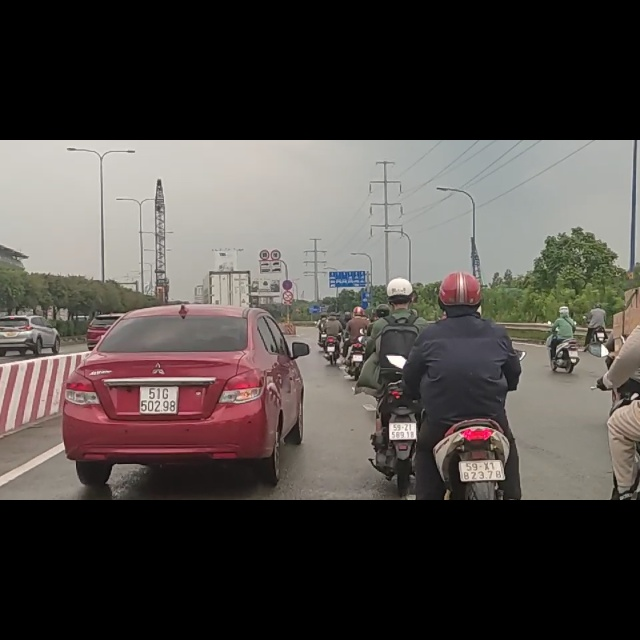bien_cam: (281, 248, 293, 267)
